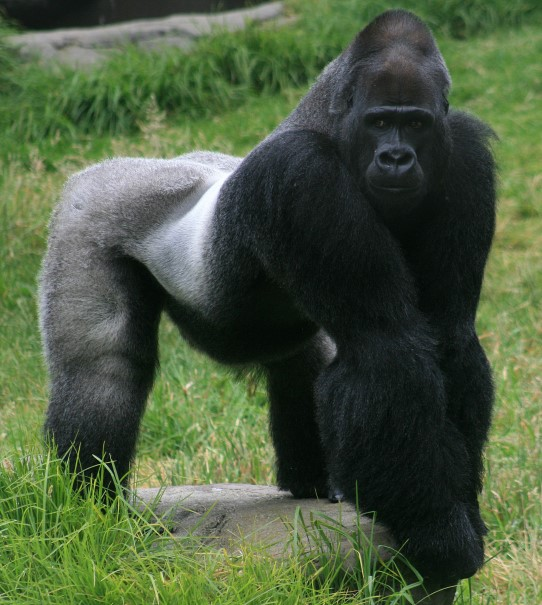Gorilla: (46, 20, 499, 496)
